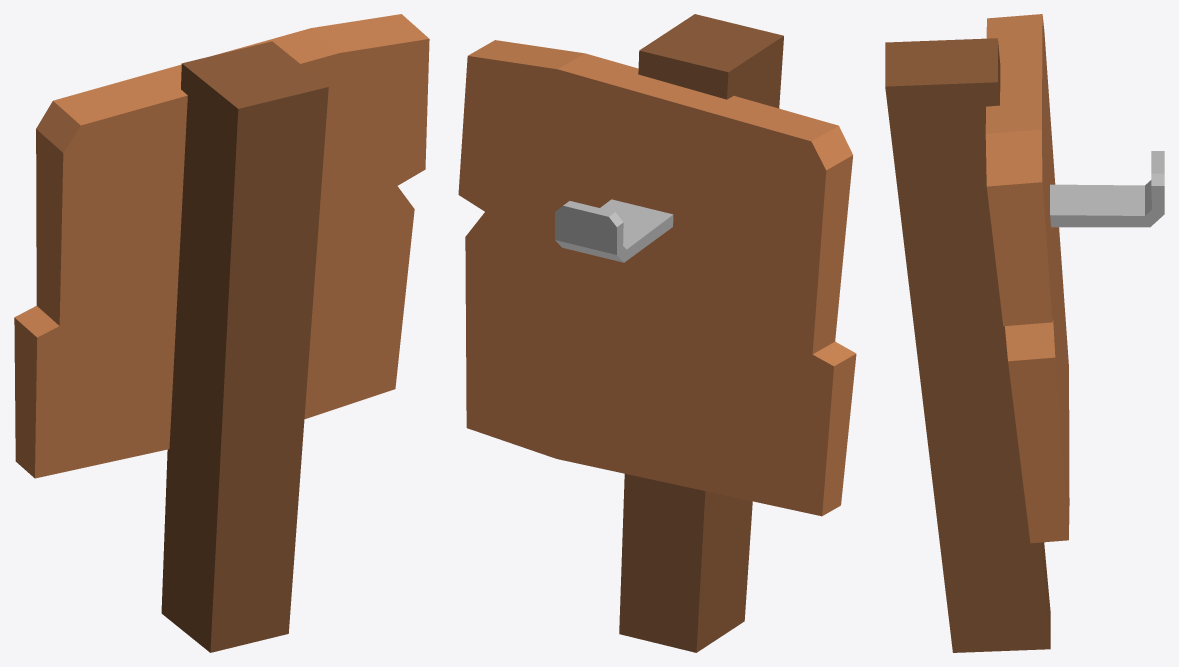
The model's file is float_holder.fbx.
3 views of the same model, side by side, from view 1: azimuth 30°, elevation 25°; view 2: azimuth 150°, elevation 25°; view 3: azimuth 270°, elevation 25° (orthographic).
Parts seen in each view (by area): view 1: float_holder; view 2: float_holder; view 3: float_holder.
Part boxes in pixels (x1,y1,x2,y2): float_holder: (14, 14, 429, 652); float_holder: (458, 14, 856, 652); float_holder: (885, 14, 1164, 652).
Bounding box in the file's own units: 96.3 × 138 × 60.9.
Materials: 1 (1 with a texture image).
